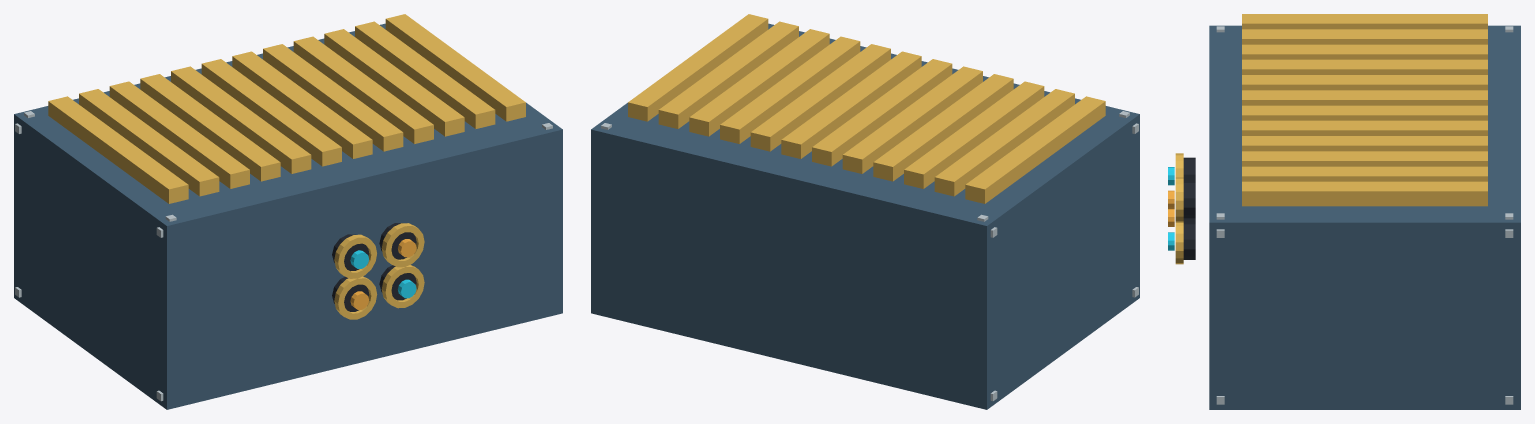
Rendered from 41_L82_DCPowerArtificialNetwork.fbx.
The picture shows the model from 3 angles, left to right: view 1: azimuth 30°, elevation 25°; view 2: azimuth 150°, elevation 25°; view 3: azimuth 270°, elevation 25°; orthographic projection.
Visible parts, largest first — view 1: DCPowerArtificialNetwork; view 2: DCPowerArtificialNetwork; view 3: DCPowerArtificialNetwork.
Boxes of the visible parts, x1,y1,x2,y2 form: DCPowerArtificialNetwork: [14, 14, 562, 409]; DCPowerArtificialNetwork: [591, 14, 1139, 409]; DCPowerArtificialNetwork: [1168, 14, 1520, 409].
Size of the model in its own units: 144 by 70.9 by 108.
